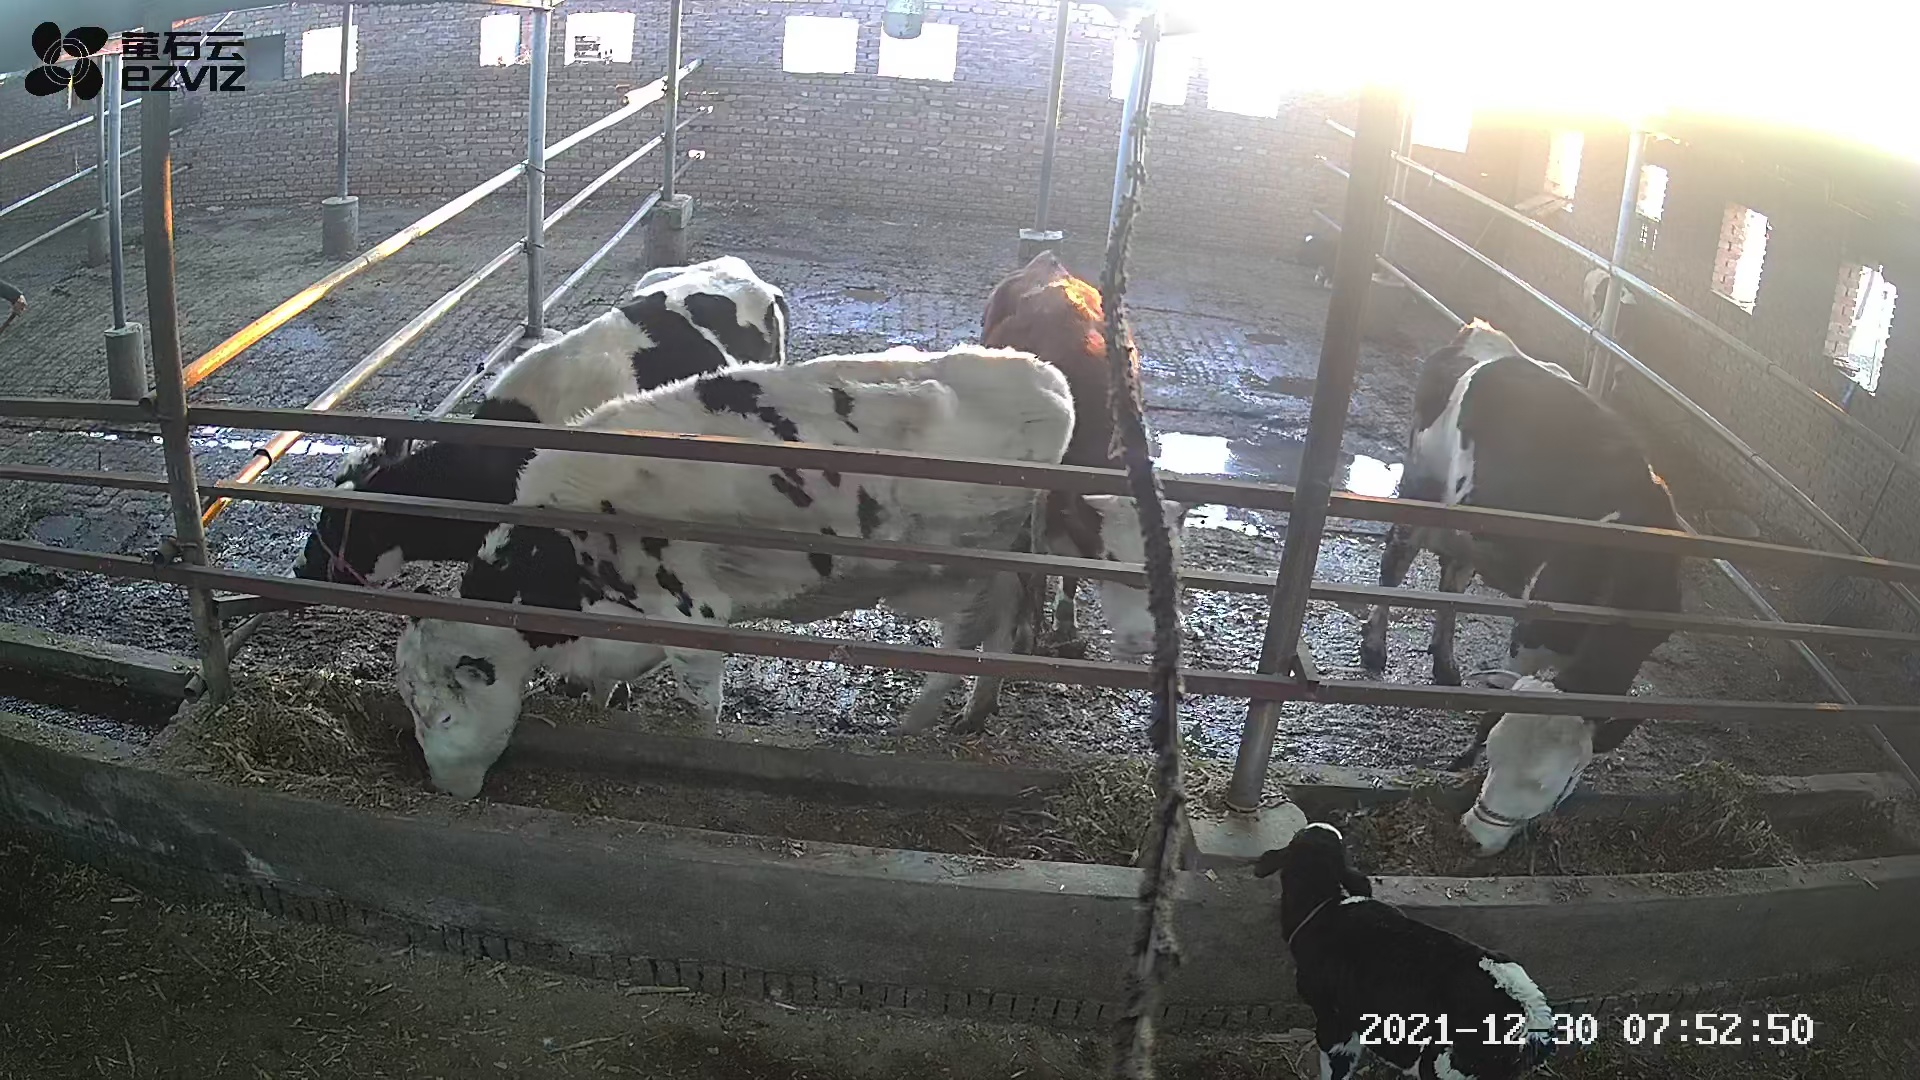cow: (393, 342, 1073, 798), (1356, 313, 1687, 857), (289, 253, 791, 588), (978, 247, 1204, 653)
